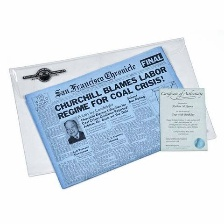news_paper: (20, 44, 198, 190)
